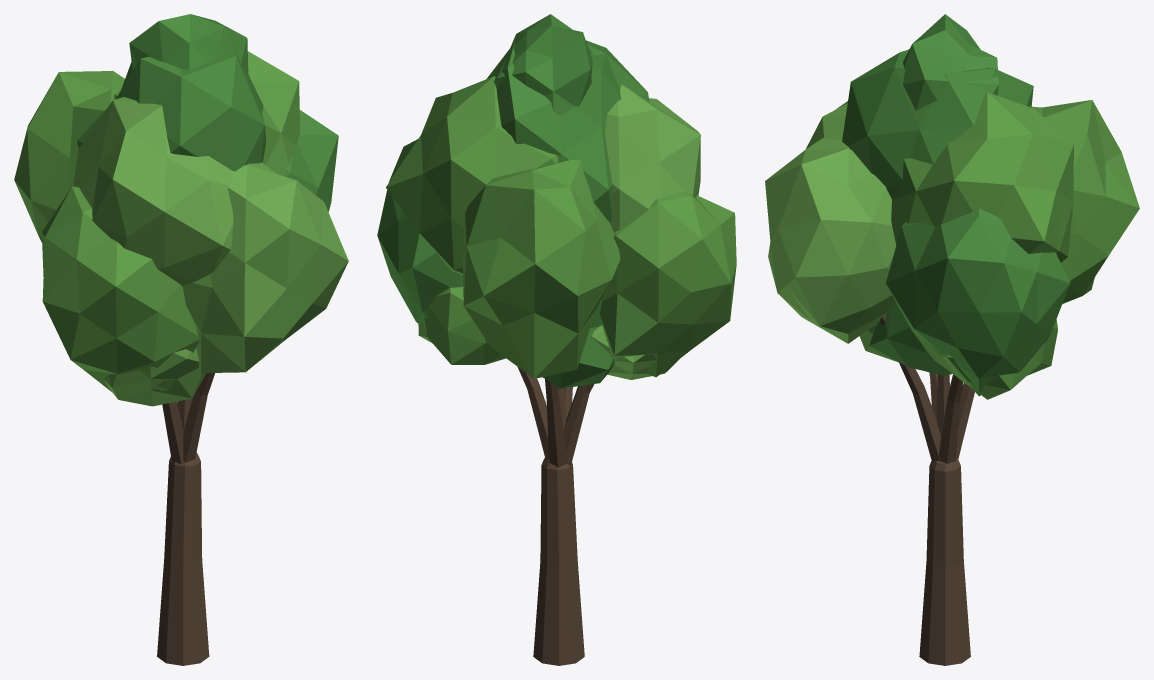
The model's file is TREE_03.obj.
3 renders of one model, left to right at view 1: azimuth 30°, elevation 25°; view 2: azimuth 150°, elevation 25°; view 3: azimuth 270°, elevation 25°, orthographic.
Parts seen in each view (by area): view 1: foliage, trunk, branches; view 2: foliage, trunk, branches; view 3: foliage, trunk, branches.
Boxes of the visible parts, x1=… form: foliage: x1=14, y1=14, x2=348, y2=406; trunk: x1=157, y1=452, x2=209, y2=665; branches: x1=162, y1=373, x2=214, y2=463; foliage: x1=377, y1=14, x2=736, y2=388; trunk: x1=533, y1=458, x2=584, y2=665; branches: x1=517, y1=367, x2=594, y2=467; foliage: x1=765, y1=14, x2=1139, y2=399; trunk: x1=919, y1=459, x2=970, y2=665; branches: x1=880, y1=315, x2=974, y2=463.
Bounding box in the file's own units: 8.47 × 16.46 × 8.89.
